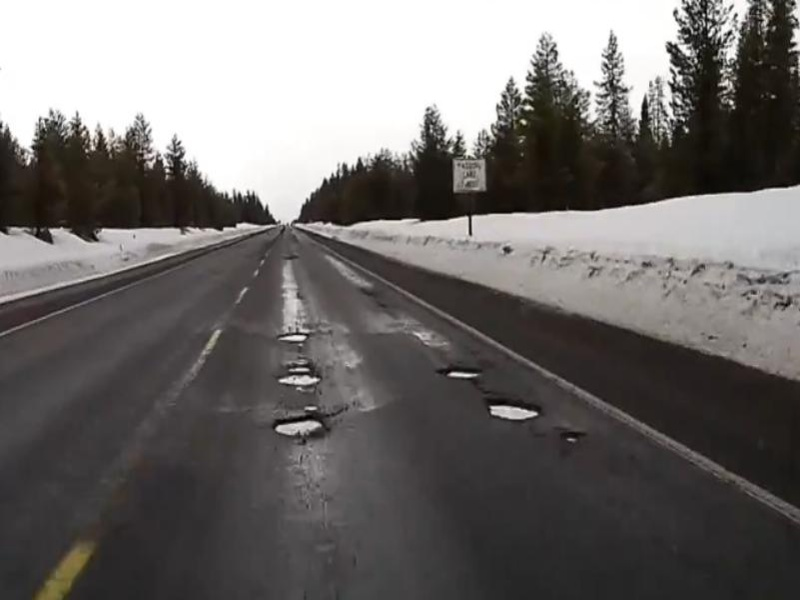pothole: (479, 397, 552, 426), (269, 410, 330, 439), (435, 359, 486, 380), (273, 373, 322, 388), (272, 329, 313, 343)
